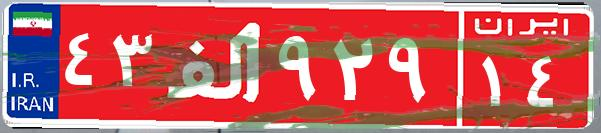1: (475, 38, 525, 113)
2: (330, 28, 385, 110)
3: (110, 28, 158, 105)
4: (57, 26, 110, 107), (525, 38, 570, 115)
9: (385, 28, 445, 110), (273, 28, 330, 110)
الف: (158, 15, 273, 115)
